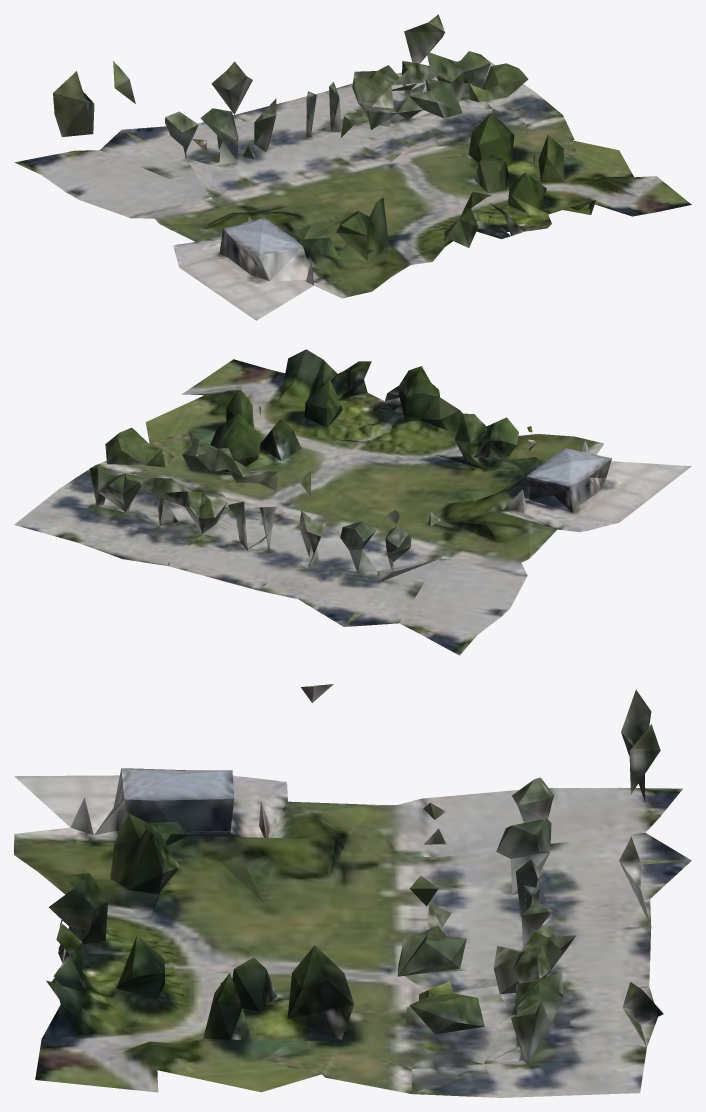
The model's file is Tile_+004_+000_L17_00.glb.
The picture shows the model from 3 angles, top to bottom: view 1: azimuth 30°, elevation 25°; view 2: azimuth 150°, elevation 25°; view 3: azimuth 270°, elevation 25°; orthographic projection. The views are drawn at different scales.
Bounding box in the file's own units: 61.01 × 12.98 × 55.02.
Materials: 1 (1 with a texture image).
